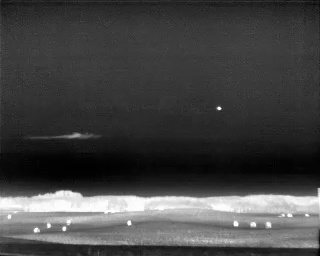BIRD: (214, 104, 223, 113)
